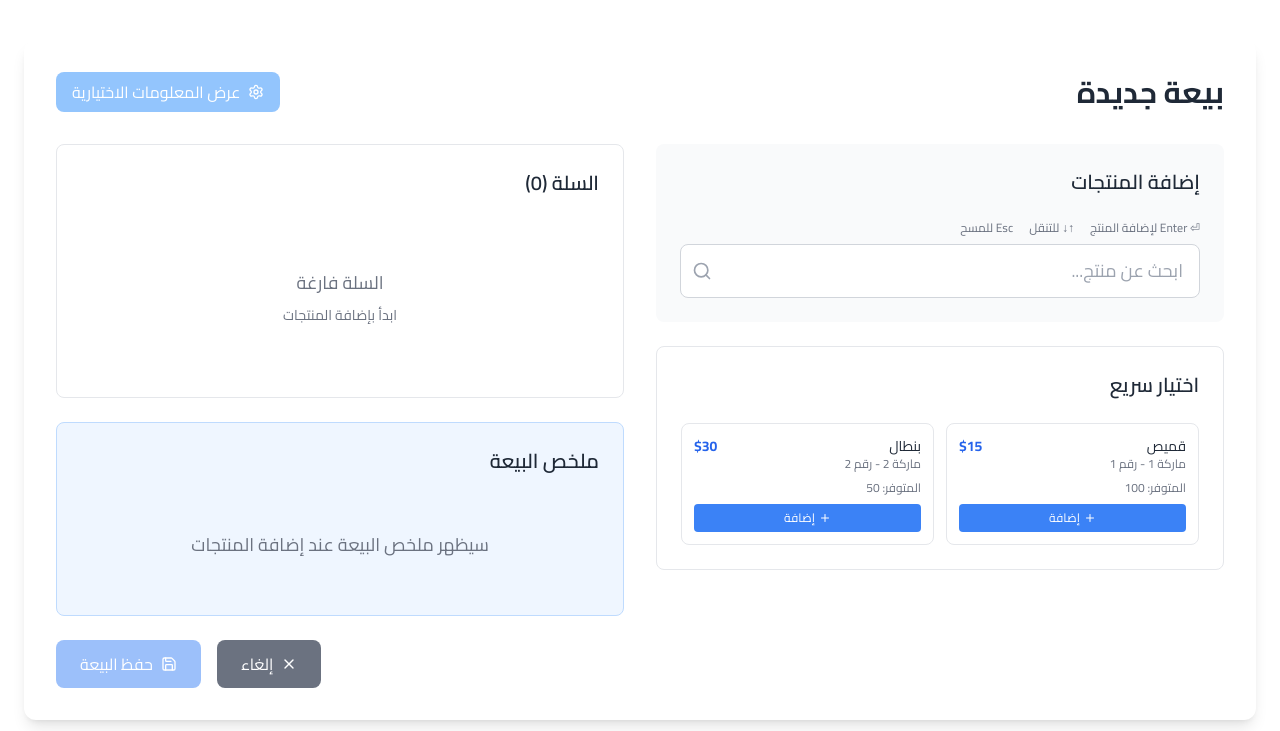
Test: SaleForm › shows optional information section when toggled
The width and height of the screenshot is (1280, 731).
Expected: the text "معلومات العميل" is not shown
Click the button "عرض المعلومات الاختيارية" at (168, 92), box [56, 72, 280, 112]
(page scrolled)
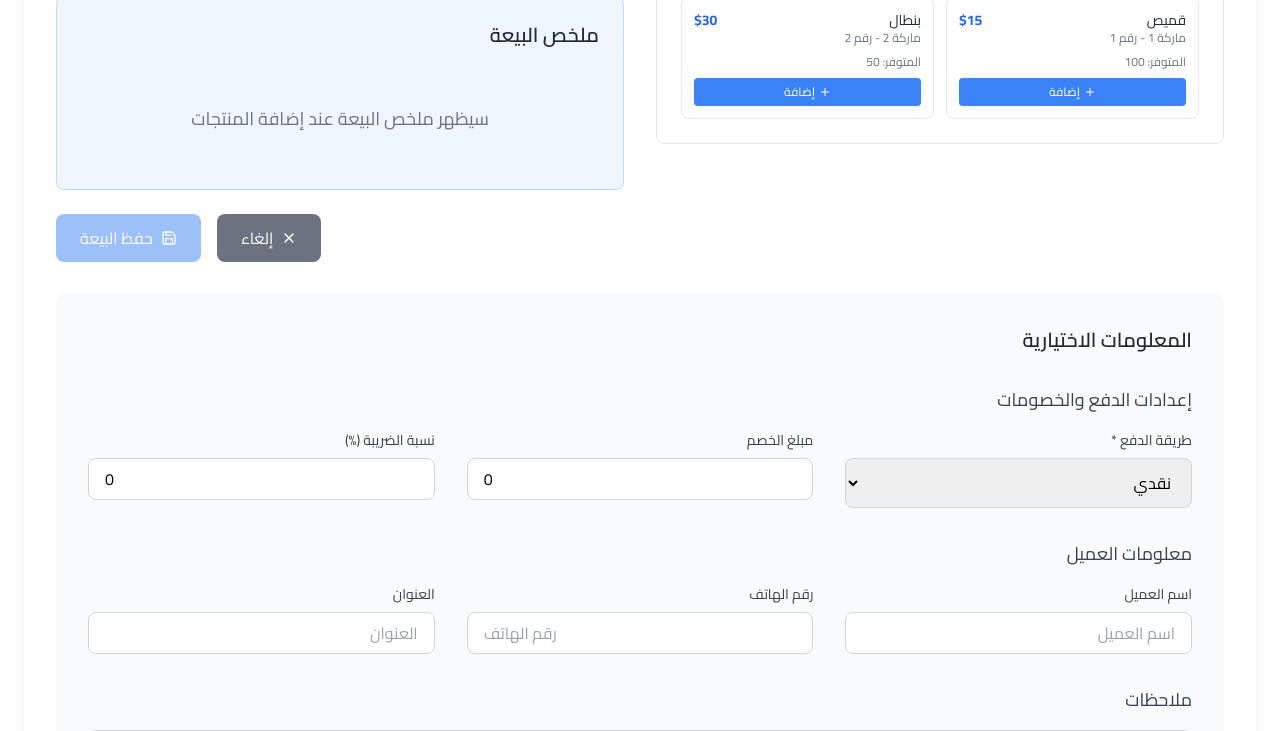
Expected: the heading "معلومات العميل" is shown, [1067, 537, 1192, 570]
Expected: the heading "إعدادات الدفع والخصومات" is shown, [997, 383, 1192, 416]
